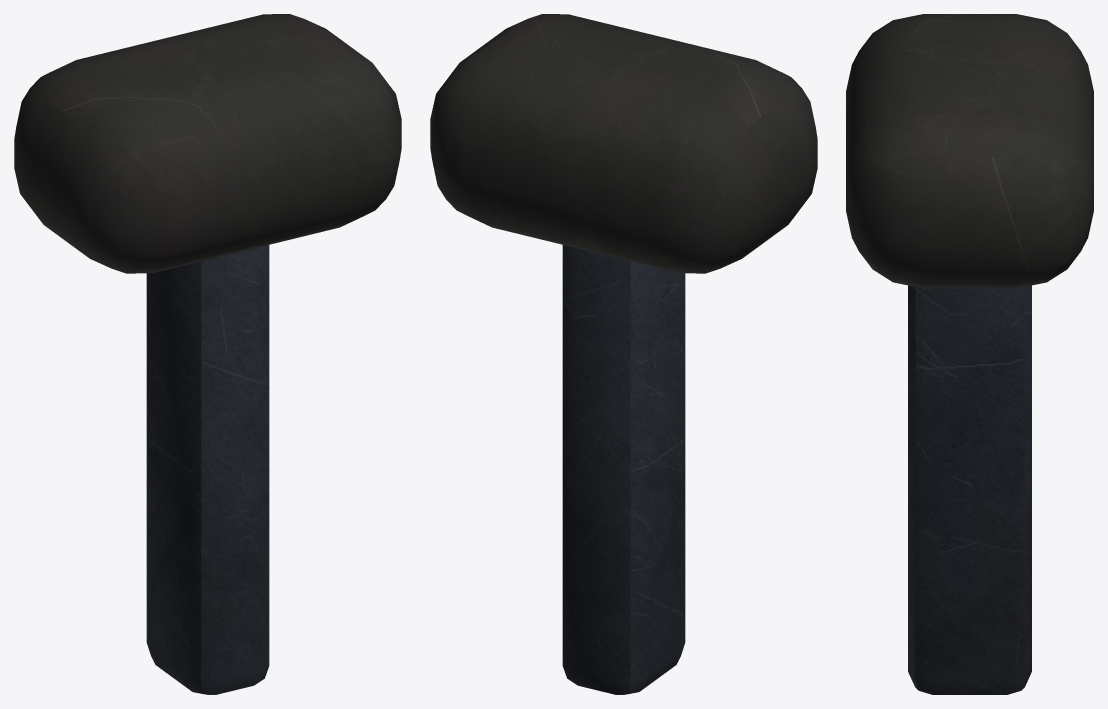
Rendered from throttle.gltf.
The picture shows the model from 3 angles, left to right: view 1: azimuth 30°, elevation 25°; view 2: azimuth 150°, elevation 25°; view 3: azimuth 270°, elevation 25°; orthographic projection.
Visible parts, largest first — view 1: throttle; view 2: throttle; view 3: throttle.
Part boxes in pixels (left/top/right/bottom): throttle: left=14, top=14, right=401, bottom=694; throttle: left=430, top=14, right=817, bottom=694; throttle: left=846, top=14, right=1093, bottom=694.
Size of the model in its own units: 0.12 by 0.22 by 0.08.
2 materials, 2 textured.
